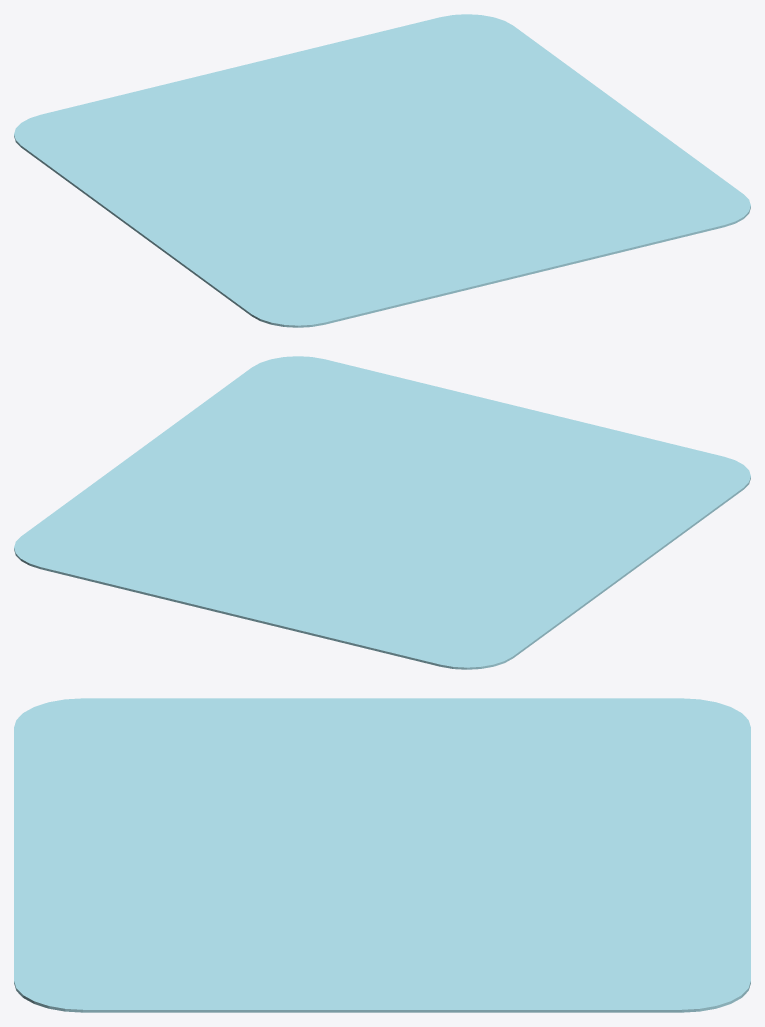
The picture shows the model from 3 angles, top to bottom: view 1: azimuth 30°, elevation 25°; view 2: azimuth 150°, elevation 25°; view 3: azimuth 270°, elevation 25°; orthographic projection. The views are drawn at different scales.
Parts seen in each view (by area): view 1: COM-02 Floor Surface; view 2: COM-02 Floor Surface; view 3: COM-02 Floor Surface.
Boxes of the visible parts, <box> form: COM-02 Floor Surface: <box>14,14,750,327</box>; COM-02 Floor Surface: <box>14,356,750,669</box>; COM-02 Floor Surface: <box>14,698,750,1012</box>.
Bounding box in the file's own units: 1.92 × 0.008 × 1.92.
1 material, 1 textured.
